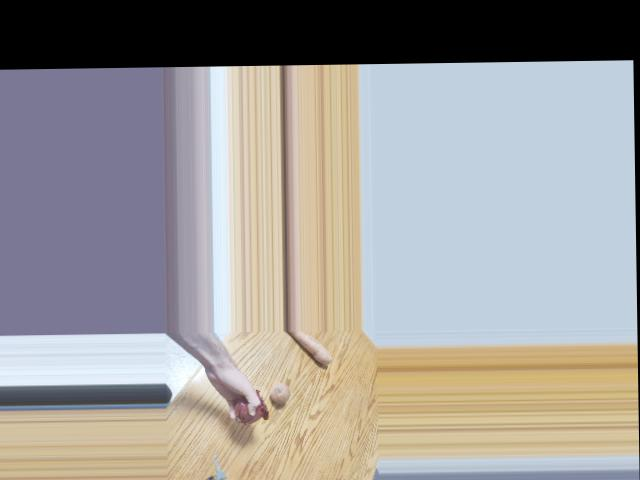onion: (262, 377, 288, 403)
